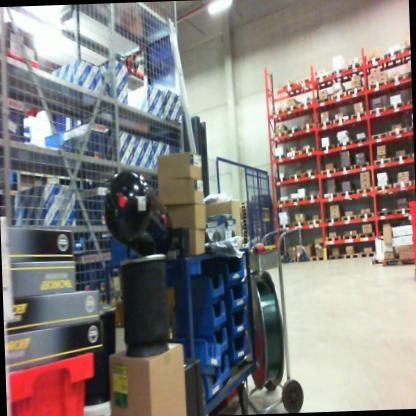pallet: (382, 46, 404, 70), (376, 252, 405, 270), (330, 64, 351, 85), (347, 60, 366, 81), (366, 77, 389, 94), (300, 96, 319, 116), (365, 55, 386, 73), (281, 79, 301, 97), (296, 74, 316, 91), (313, 71, 334, 87), (388, 74, 405, 93), (352, 158, 373, 173), (367, 104, 386, 120), (330, 88, 347, 105), (352, 133, 370, 149), (389, 125, 407, 141), (272, 108, 288, 126), (333, 112, 351, 127), (392, 151, 411, 165), (319, 165, 338, 179), (384, 101, 406, 113), (318, 140, 338, 153), (356, 183, 373, 198), (285, 102, 302, 117), (393, 179, 412, 192), (340, 212, 358, 225), (370, 130, 389, 142), (346, 88, 365, 100), (274, 125, 288, 141), (371, 257, 388, 270), (358, 211, 375, 224), (287, 147, 300, 164), (324, 190, 342, 202), (374, 155, 393, 166), (291, 216, 307, 229), (302, 167, 318, 180), (289, 169, 302, 185), (301, 120, 317, 133), (307, 215, 324, 227), (299, 144, 316, 156), (336, 138, 353, 150), (351, 109, 368, 121), (359, 229, 377, 240), (339, 188, 357, 199), (273, 152, 288, 165), (315, 95, 331, 107), (324, 233, 342, 243), (373, 183, 393, 192), (273, 174, 289, 185), (403, 43, 411, 65), (342, 233, 359, 243), (324, 213, 341, 223), (290, 194, 304, 206), (379, 207, 394, 218), (359, 250, 377, 259), (305, 191, 321, 201), (337, 164, 353, 174), (277, 195, 291, 206), (342, 252, 361, 260), (311, 253, 326, 263), (394, 207, 409, 217), (316, 119, 333, 127), (329, 253, 344, 262), (288, 124, 300, 135), (278, 222, 292, 229), (406, 97, 412, 113), (408, 124, 414, 136), (412, 268, 416, 282), (240, 199, 249, 205), (241, 240, 250, 245), (240, 214, 248, 219), (239, 221, 248, 225), (240, 225, 249, 229), (241, 236, 250, 240), (240, 205, 248, 209), (241, 229, 249, 233), (241, 232, 249, 236), (239, 209, 249, 212), (412, 179, 415, 188), (240, 212, 249, 215), (240, 219, 247, 221)
pallet_truck: (292, 216, 314, 264), (277, 217, 294, 263)
small_load_carrier: (5, 350, 107, 416), (406, 202, 414, 225), (410, 239, 416, 255), (411, 221, 416, 240), (411, 255, 416, 272)
